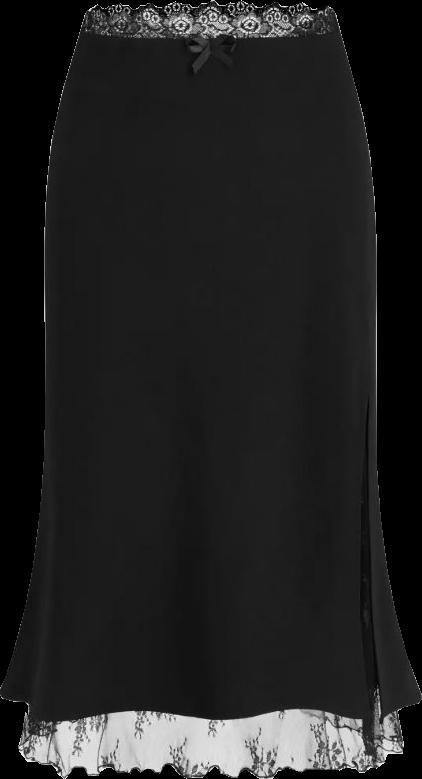Hemline: (0, 689, 421, 726), (14, 742, 409, 778)
Waistline: (84, 0, 339, 17)
